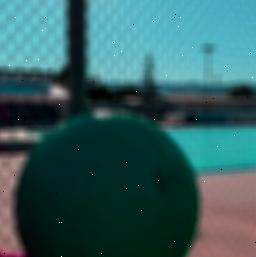algae: (12, 106, 204, 257)
